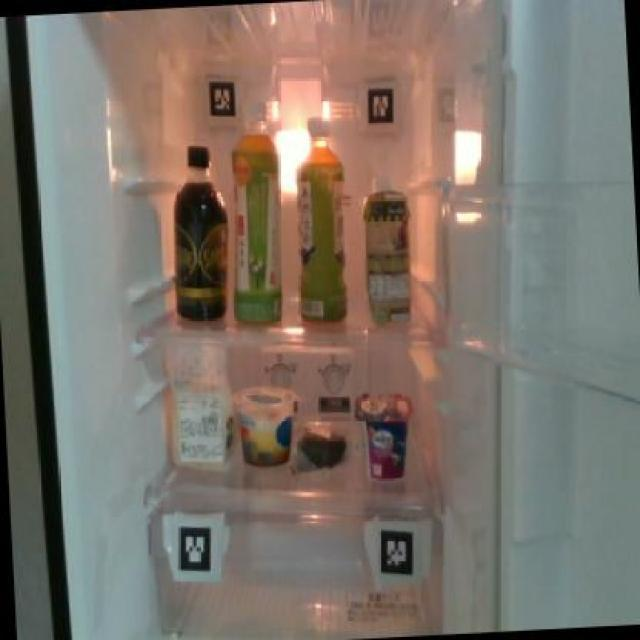bottle: (220, 115, 289, 328), (286, 109, 352, 331)
coffee: (166, 137, 232, 325)
pudding: (229, 374, 297, 468)
rice_ball: (294, 410, 348, 476)
sandwich: (160, 336, 234, 470)
smoothie: (356, 169, 414, 328)
yogurt: (352, 384, 414, 484)
